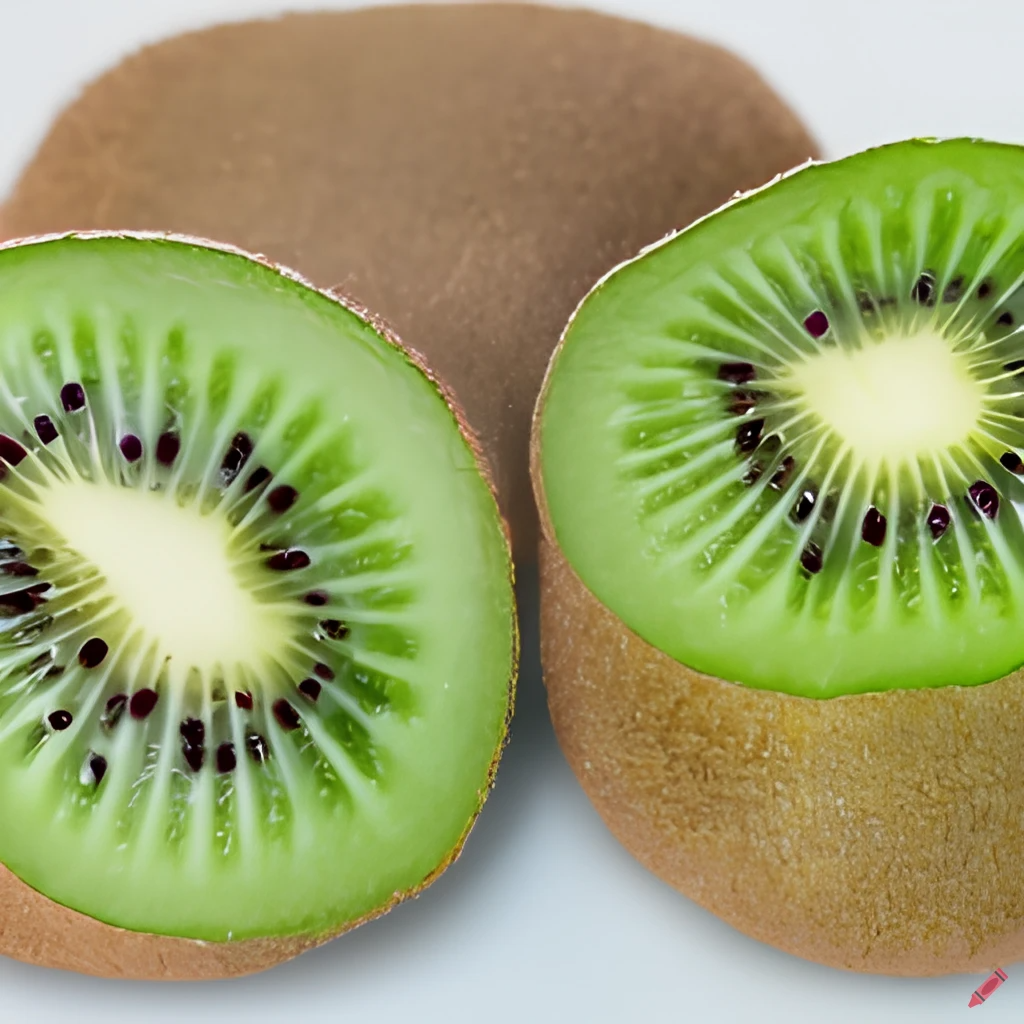Kiwi: (519, 115, 1024, 964)
